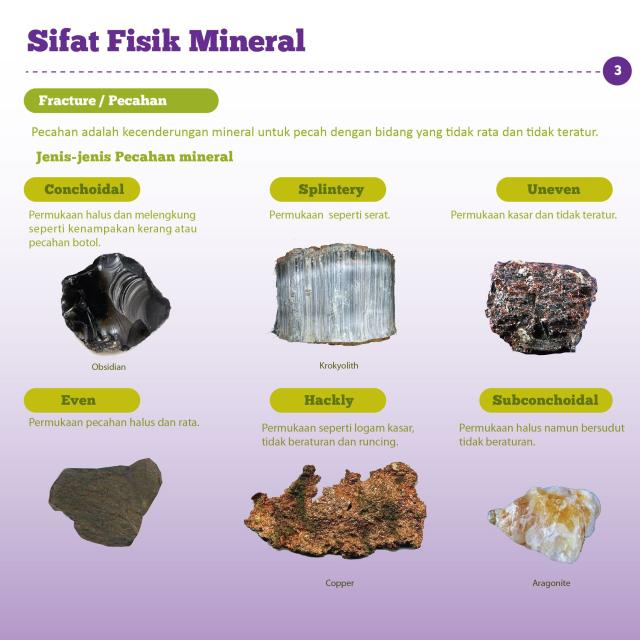Pecahan Agregat: (254, 239, 412, 343)
